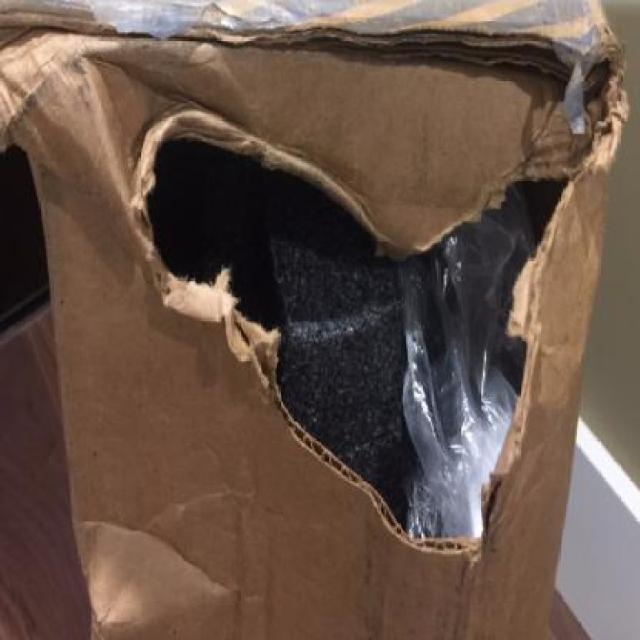box: (84, 94, 508, 563)
